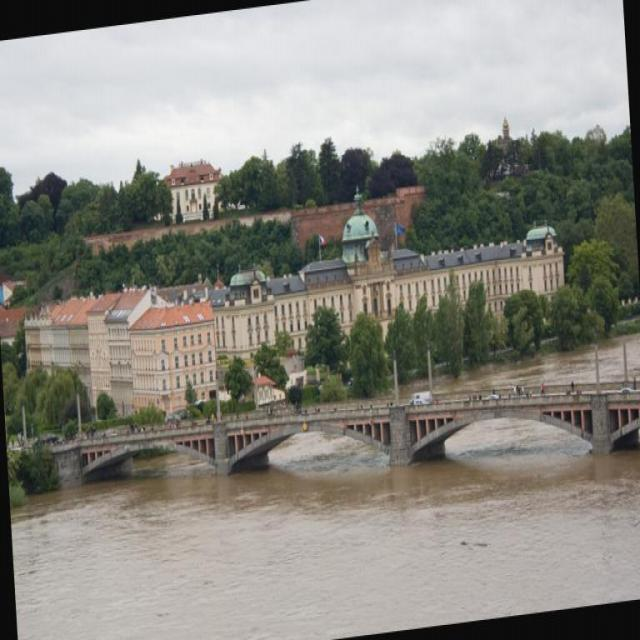flood: (10, 420, 639, 639)
